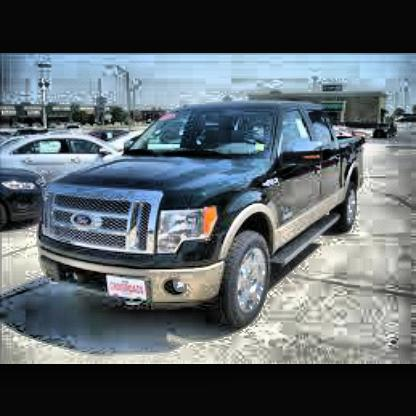Ford F-450 Super Duty Crew Cab 2012: (34, 99, 368, 333)
